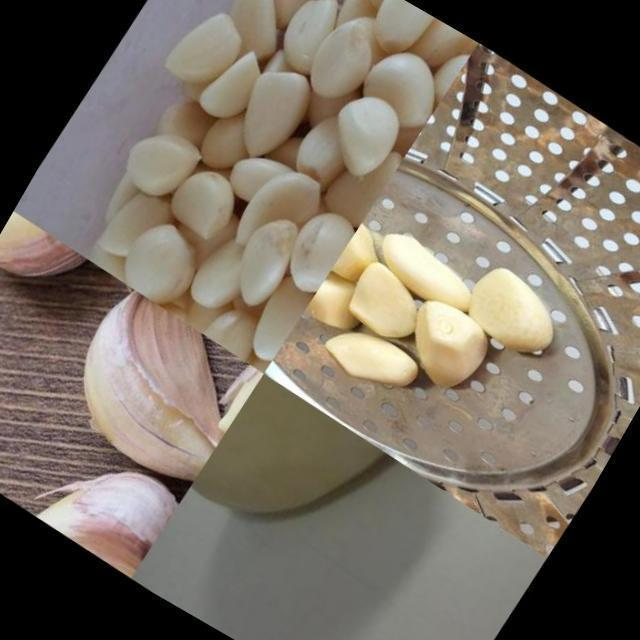garlic: (40, 0, 477, 382), (282, 182, 588, 468), (178, 370, 406, 592), (47, 281, 267, 490), (2, 409, 188, 580), (0, 211, 129, 337), (0, 265, 60, 471)
